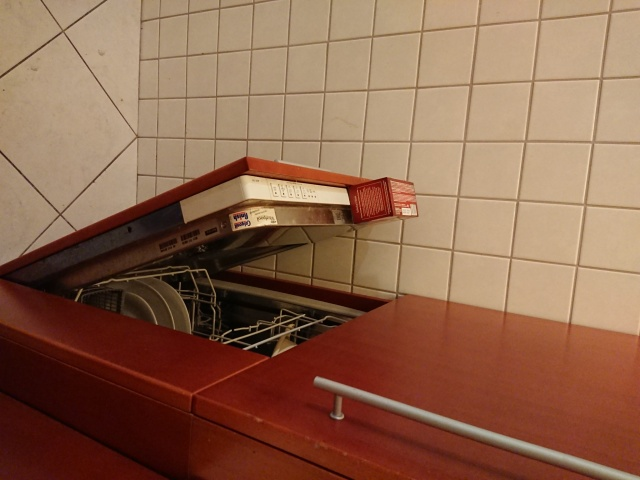Franck Apple Cinnamon Tea 60g: (344, 174, 421, 227)
